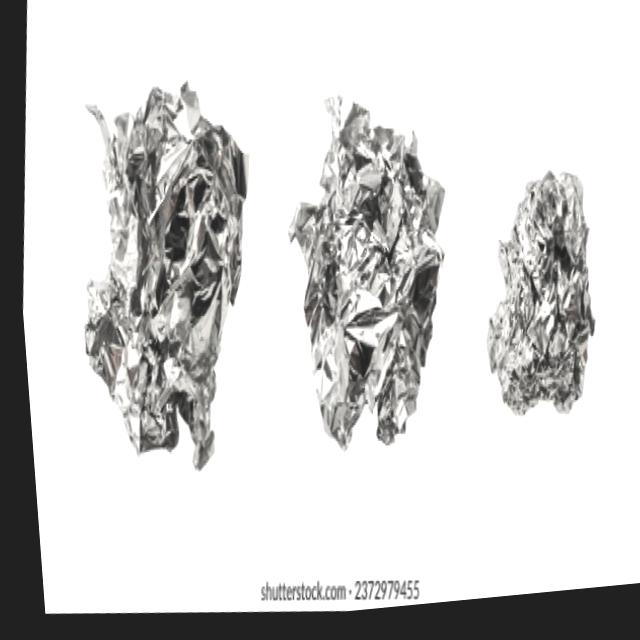Foil: (30, 57, 279, 496), (256, 77, 481, 518), (457, 126, 640, 481)
